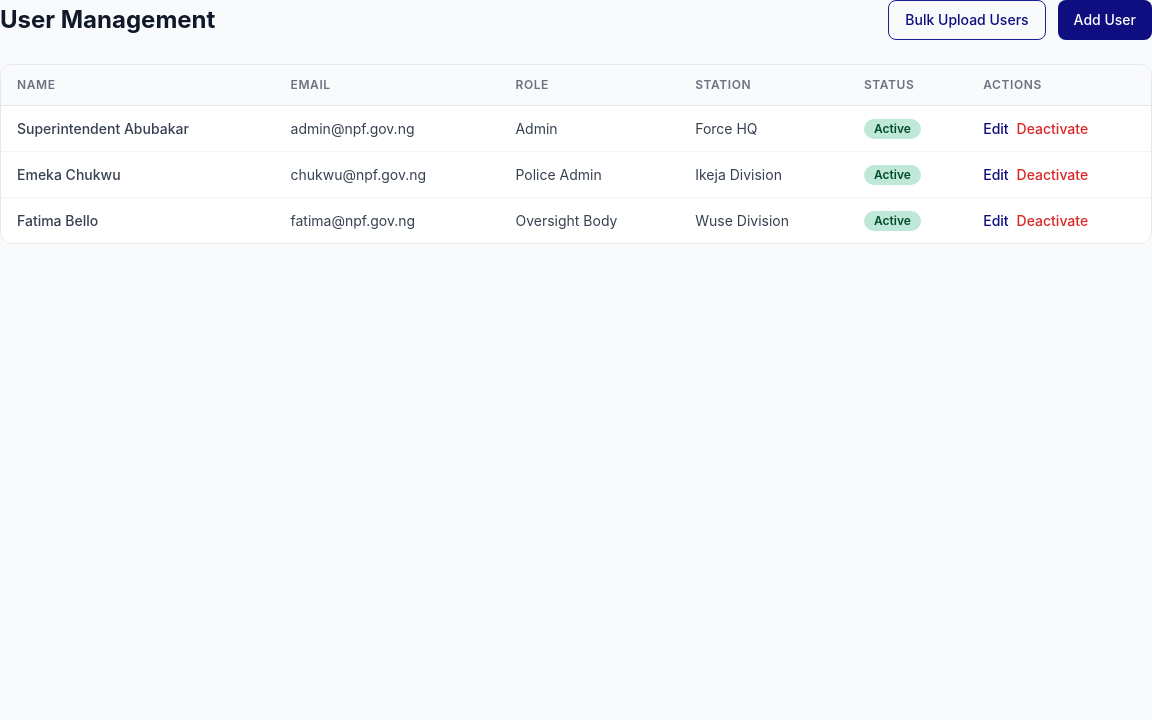
UserManagementPage › opens create user modal on Add User click
Click the button "Add User". click: (1105, 20)
box: x1=1058 y1=0 x2=1151 y2=40
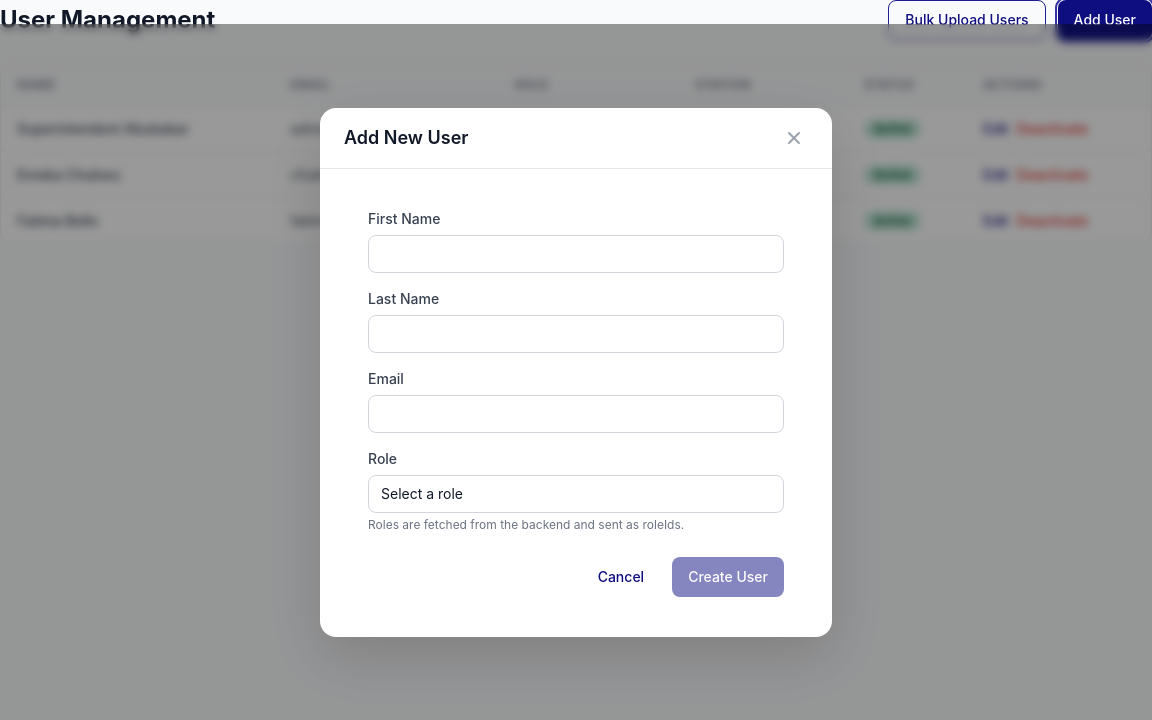
Check: the dialog is shown
Check: the heading "Add New User" is shown, box x1=344 y1=124 x2=468 y2=152
